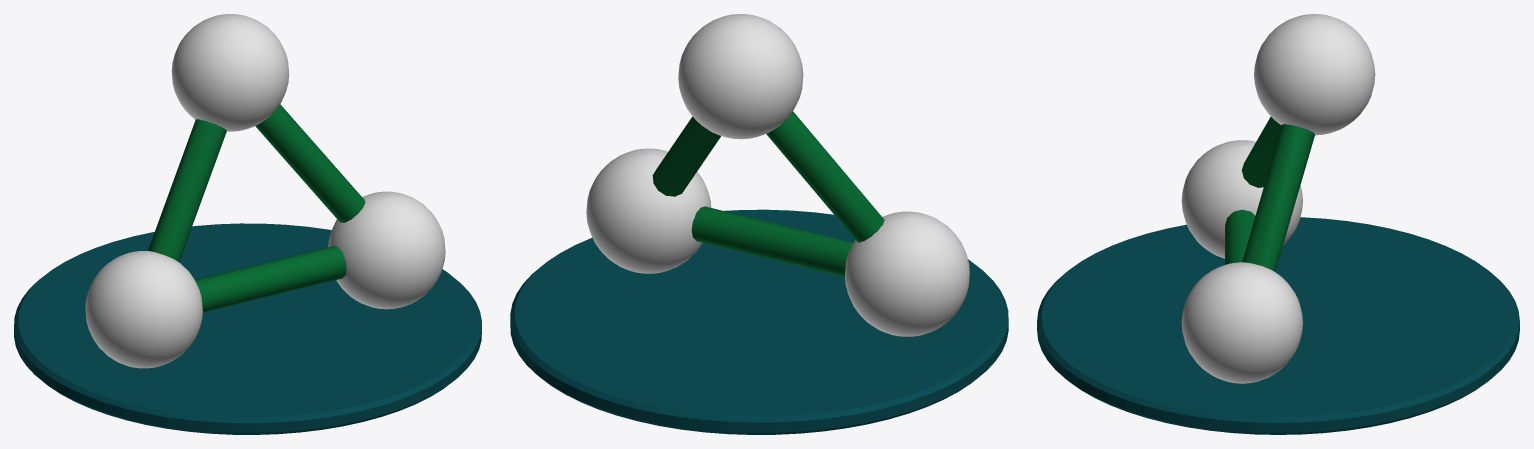
Rendered from collaboration.glb.
The picture shows the model from 3 angles, left to right: view 1: azimuth 30°, elevation 25°; view 2: azimuth 150°, elevation 25°; view 3: azimuth 270°, elevation 25°; orthographic projection. The views are drawn at different scales.
Parts seen in each view (by area): view 1: pedestal, body; view 2: pedestal, body; view 3: pedestal, body.
Boxes of the visible parts, x1,y1,x2,y2 form: pedestal: (14,223,481,434); body: (85,14,445,368); pedestal: (510,209,1008,434); body: (586,14,969,336); pedestal: (1037,217,1519,434); body: (1181,14,1375,383).
Size of the model in its own units: 4.4 by 3.17 by 4.4.
